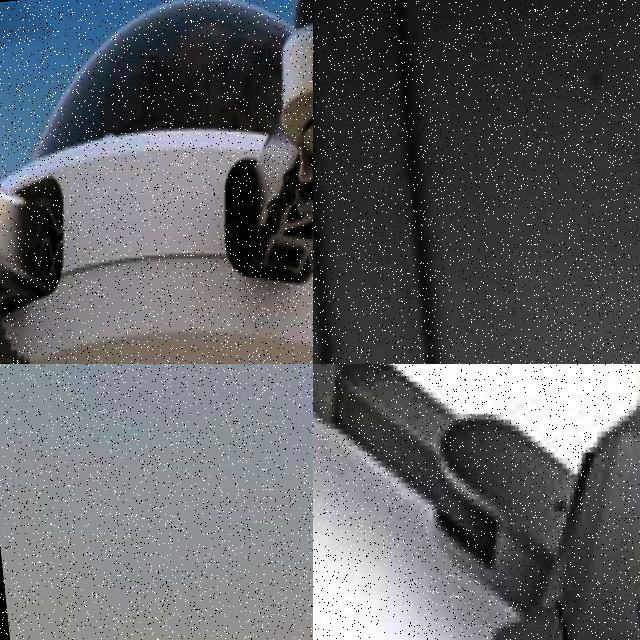drone: (0, 0, 313, 364), (313, 364, 640, 640)
